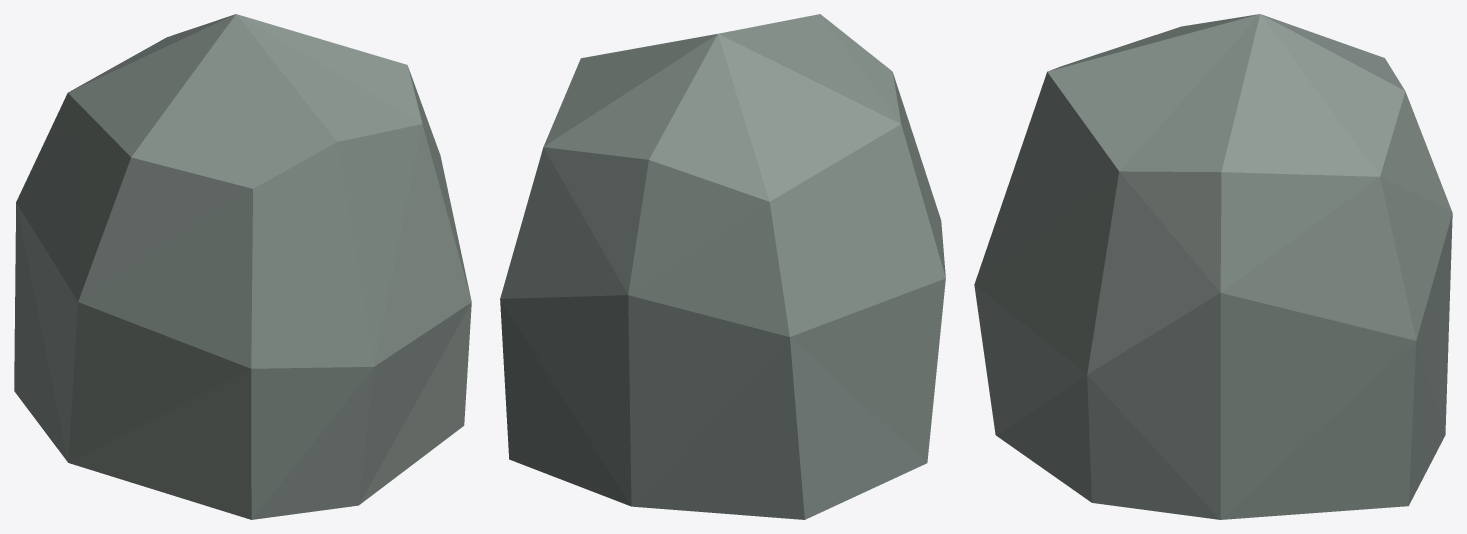
Rendered from Boulder_01.fbx.
The picture shows the model from 3 angles, left to right: view 1: azimuth 30°, elevation 25°; view 2: azimuth 150°, elevation 25°; view 3: azimuth 270°, elevation 25°; orthographic projection. The views are drawn at different scales.
Visible parts, largest first — view 1: Boulder; view 2: Boulder; view 3: Boulder.
Part boxes in pixels (x1,y1,x2,y2): Boulder: (14,14,471,519); Boulder: (500,14,945,519); Boulder: (974,14,1452,519).
Bounding box in the file's own units: 2.02 × 2.05 × 2.1.
